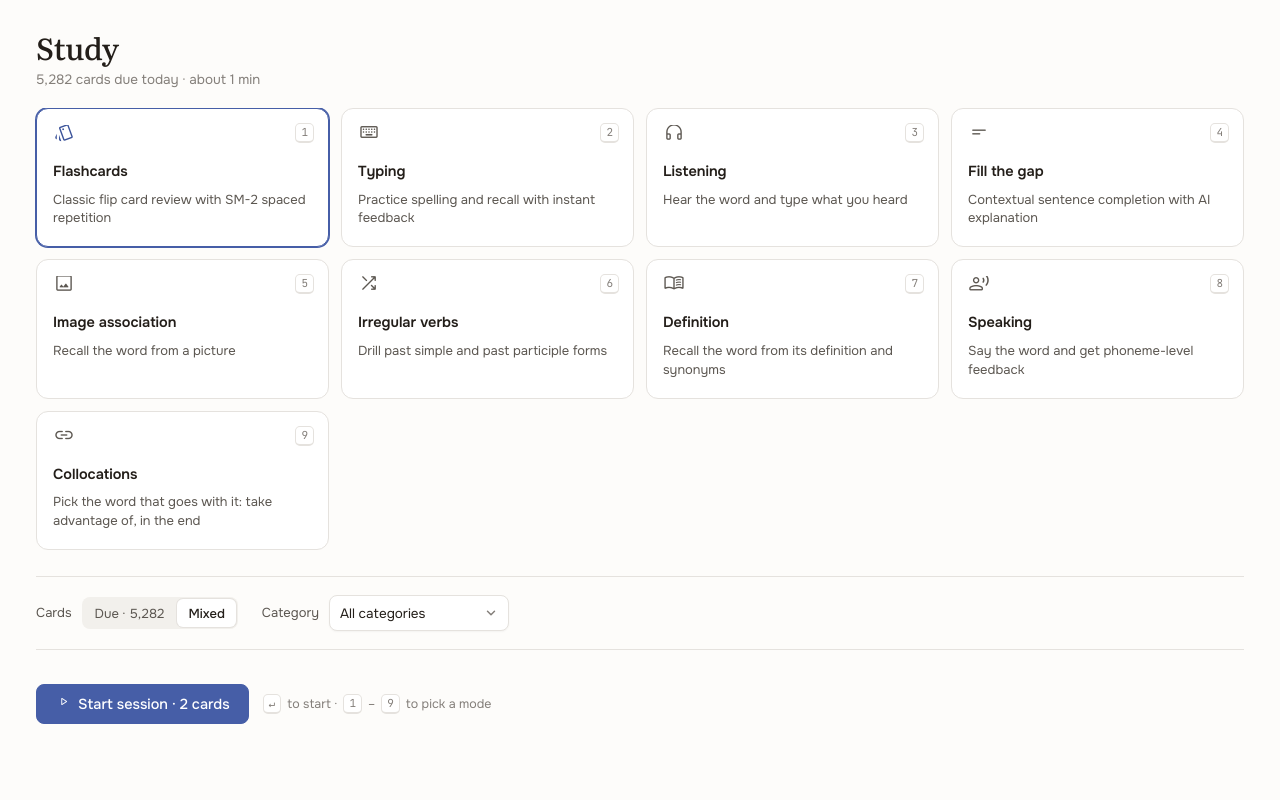
StudyPage › runs a flashcard session end to end and saves each rating
What coordinates should you click on to do the following:
click the button "Start session · 2 cards"
I would click on:
 (142, 704)
Its box is [36, 684, 249, 724].
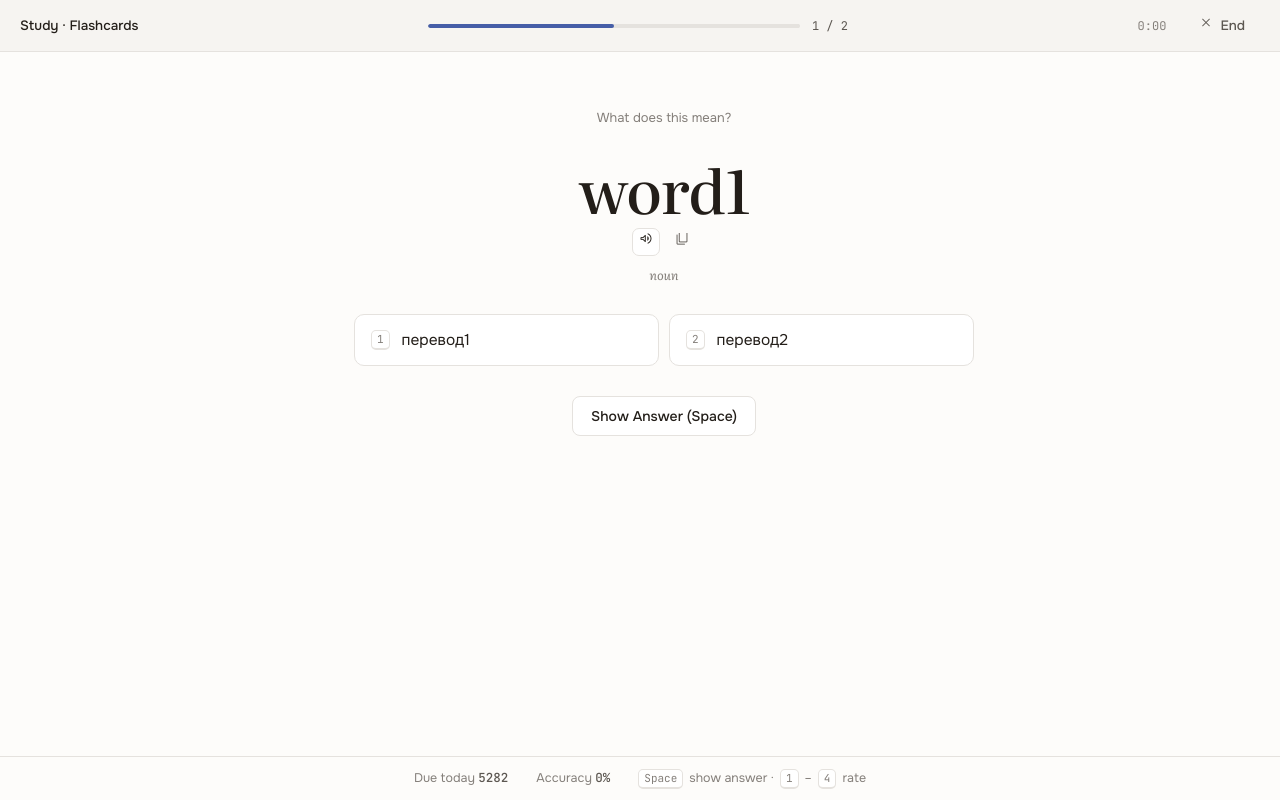
What coordinates should you click on to do the following:
click the button with aria-label "Show translation"
I would click on:
 (664, 416)
Its box is [572, 396, 756, 436].
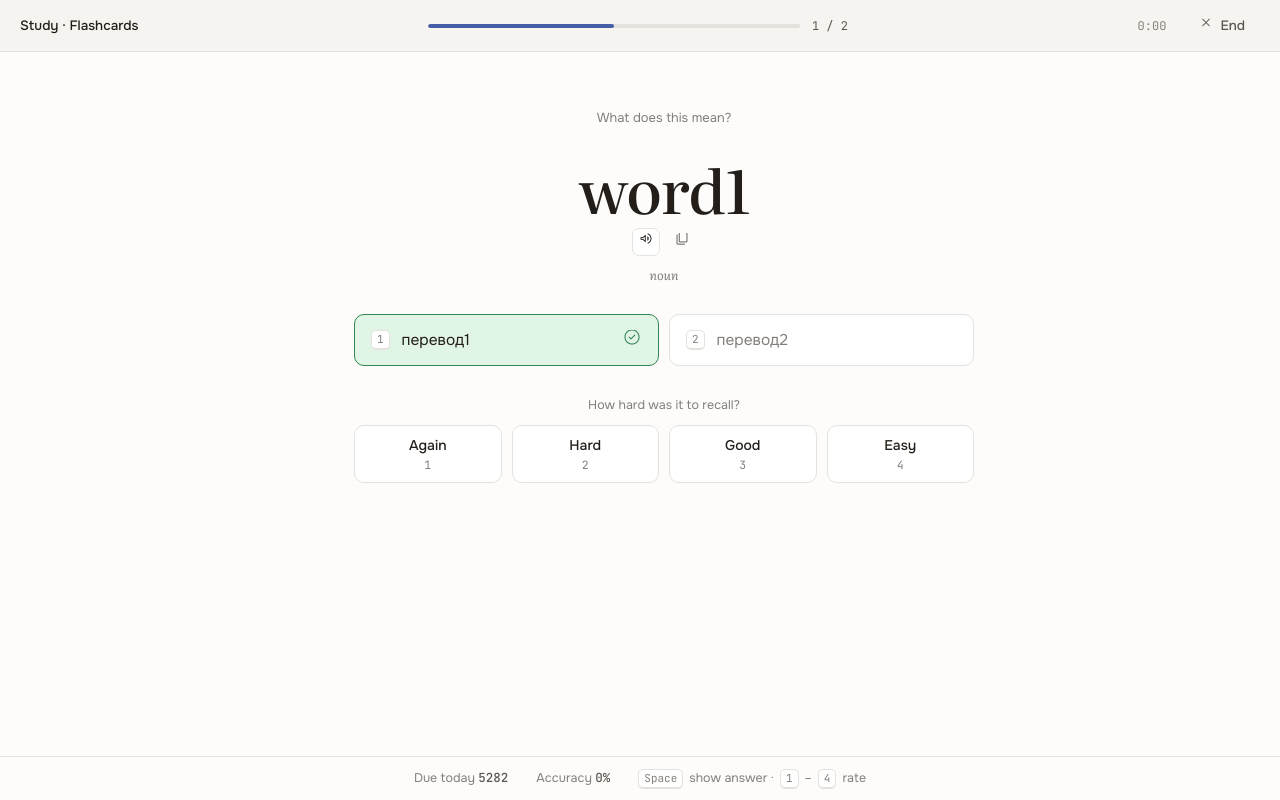
What coordinates should you click on to do the following:
click the button "Good 3"
I would click on:
 (743, 454)
Its box is [669, 425, 816, 483].
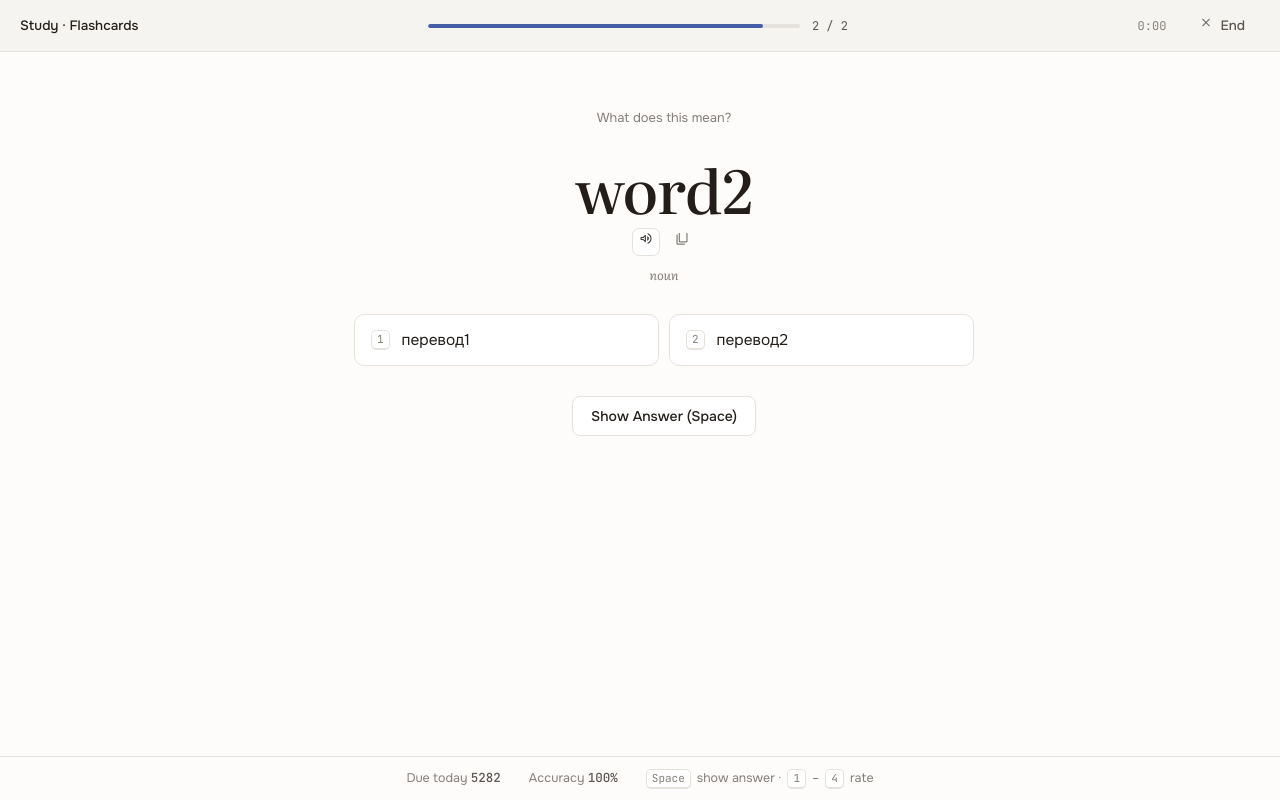
What coordinates should you click on to do the following:
click the button with aria-label "Show translation"
I would click on:
 (664, 416)
Its box is [572, 396, 756, 436].
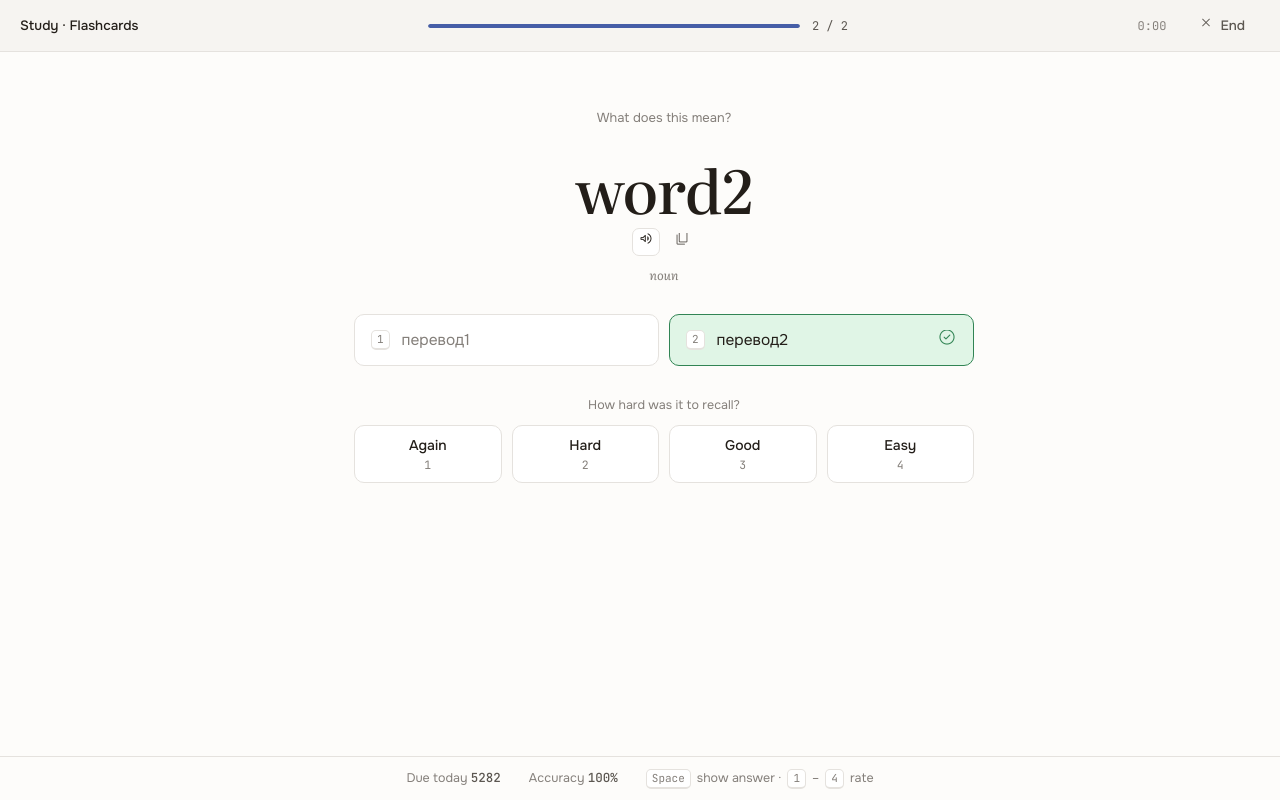
What coordinates should you click on to do the following:
click the button "Good 3"
I would click on:
 (743, 454)
Its box is [669, 425, 816, 483].
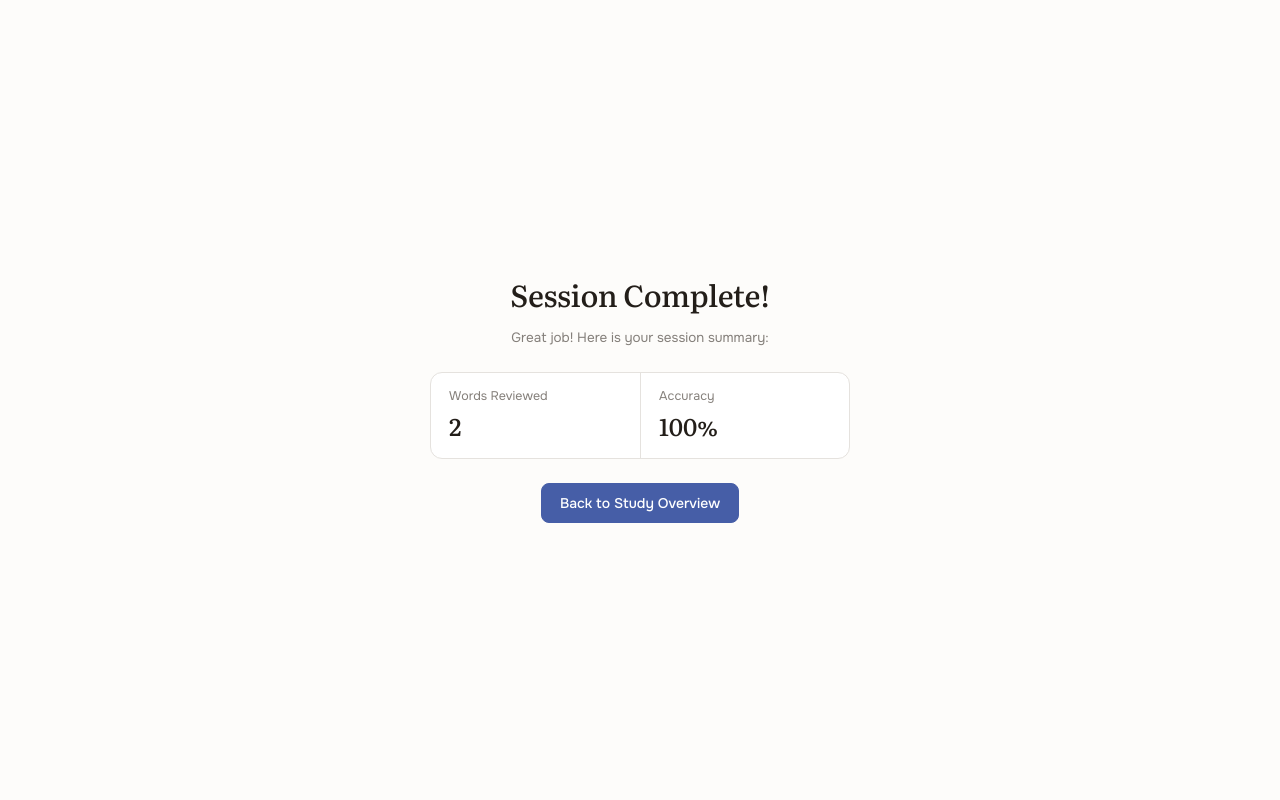
Check: the text "100%" is shown, box [659, 408, 718, 443]
Check: the heading "Session Complete!" is shown, box [510, 277, 770, 312]
